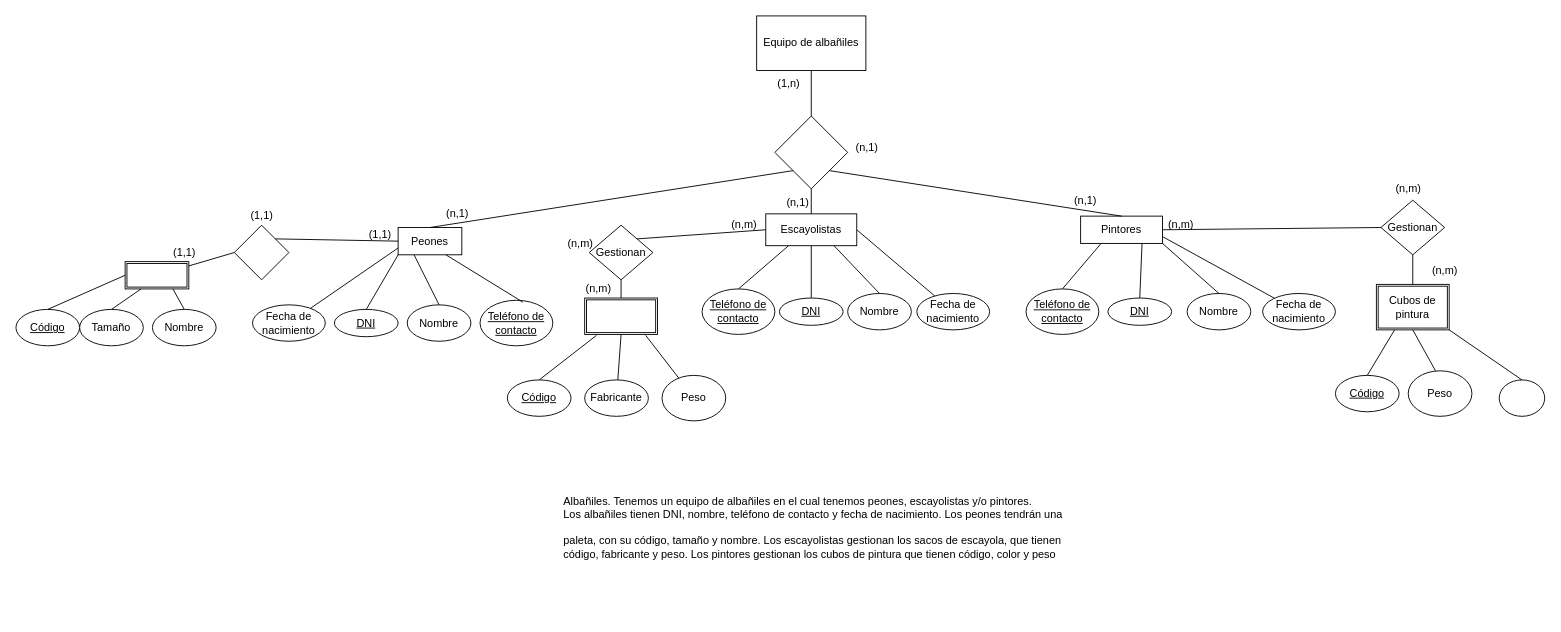
Image size: 1561x632. Some labels were removed from this diagram. Each missing label, with the centre of its shape:
Color: [1521,397]
Paleta: [156,275]
Sacos de escayola: [620,315]
Se compone de:: [811,152]
Tienen: [261,252]
